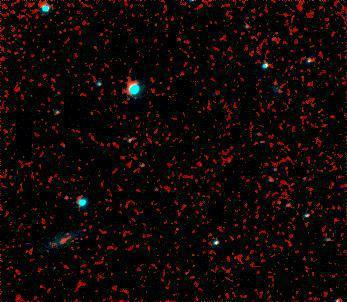star: (261, 72, 291, 102)
